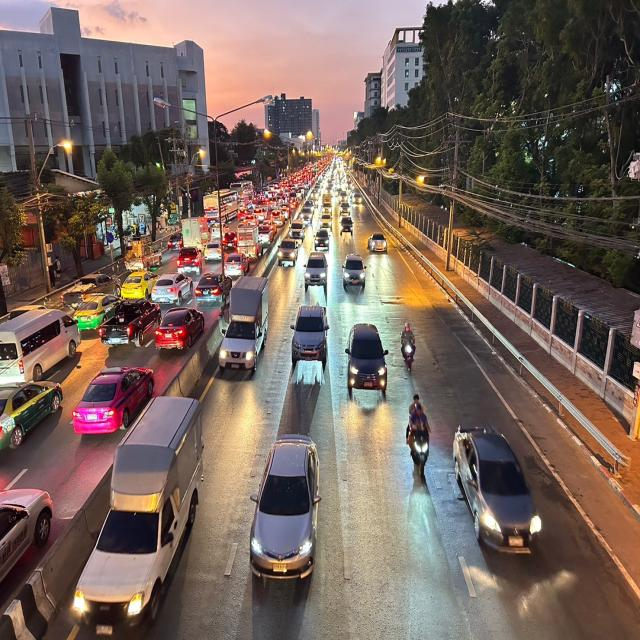bike: (400, 390, 435, 481), (396, 309, 419, 379)
truck: (61, 390, 207, 640), (217, 271, 271, 376)
